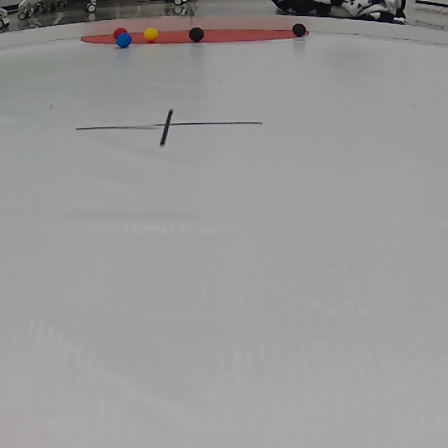black: (188, 26, 206, 43), (291, 22, 307, 36)
blue: (116, 31, 132, 48)
red: (112, 25, 129, 39)
red_base: (80, 29, 299, 47)
yellow: (141, 26, 161, 42)
